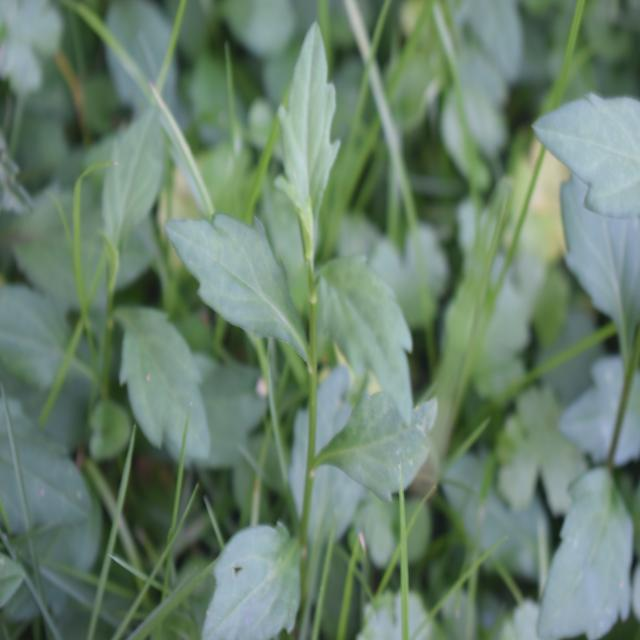Indian aster: (174, 36, 440, 516)
